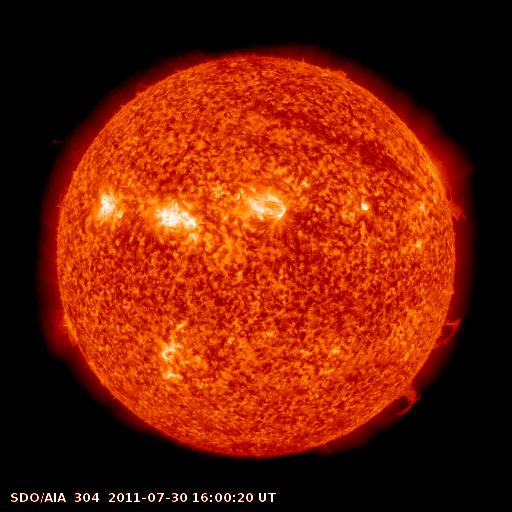prominence: (435, 180, 477, 232), (387, 376, 421, 421), (427, 316, 463, 350), (323, 59, 359, 89)
